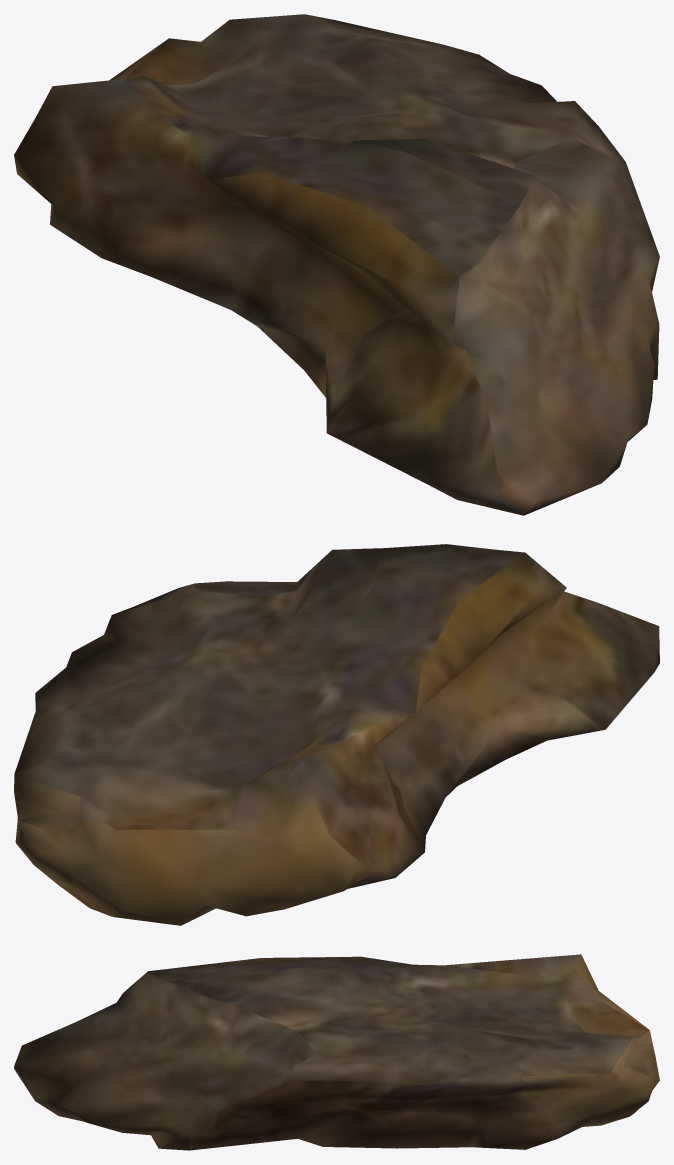
File: ph_rock_4.glb
3 renders of one model, top to bottom at view 1: azimuth 30°, elevation 25°; view 2: azimuth 150°, elevation 25°; view 3: azimuth 270°, elevation 25°, orthographic. The views are drawn at different scales.
Visible parts, largest first — view 1: ph_rock_4_lod1; view 2: ph_rock_4_lod1; view 3: ph_rock_4_lod1.
Boxes of the visible parts, box(x1,y1,x2,y2) form: ph_rock_4_lod1: box(14, 14, 659, 515); ph_rock_4_lod1: box(14, 544, 659, 925); ph_rock_4_lod1: box(14, 954, 659, 1150).
Size of the model in its own units: 0.0742 by 0.0331 by 0.1443.
Materials: 1 (1 with a texture image).
